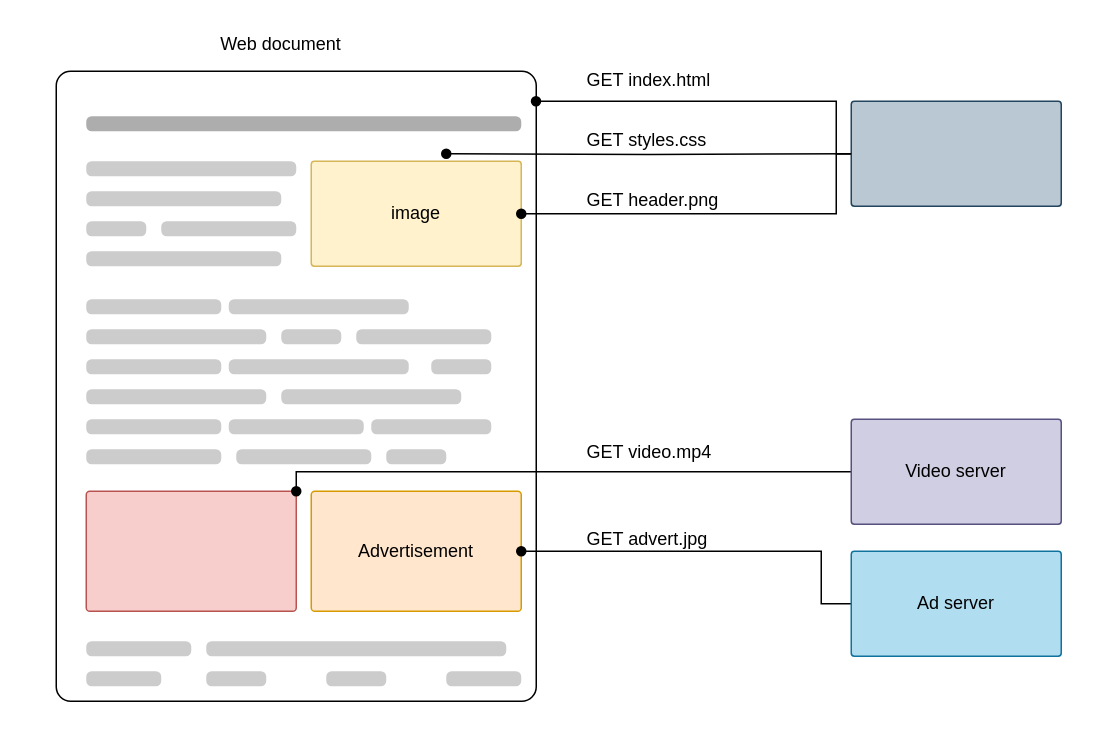
Image size: 1116x756. Some labels were removed from this diagram. The centre of each missing label's shape, as x and y in pixels:
"Video" goes at point (190, 550).
"Web server" goes at point (955, 153).
